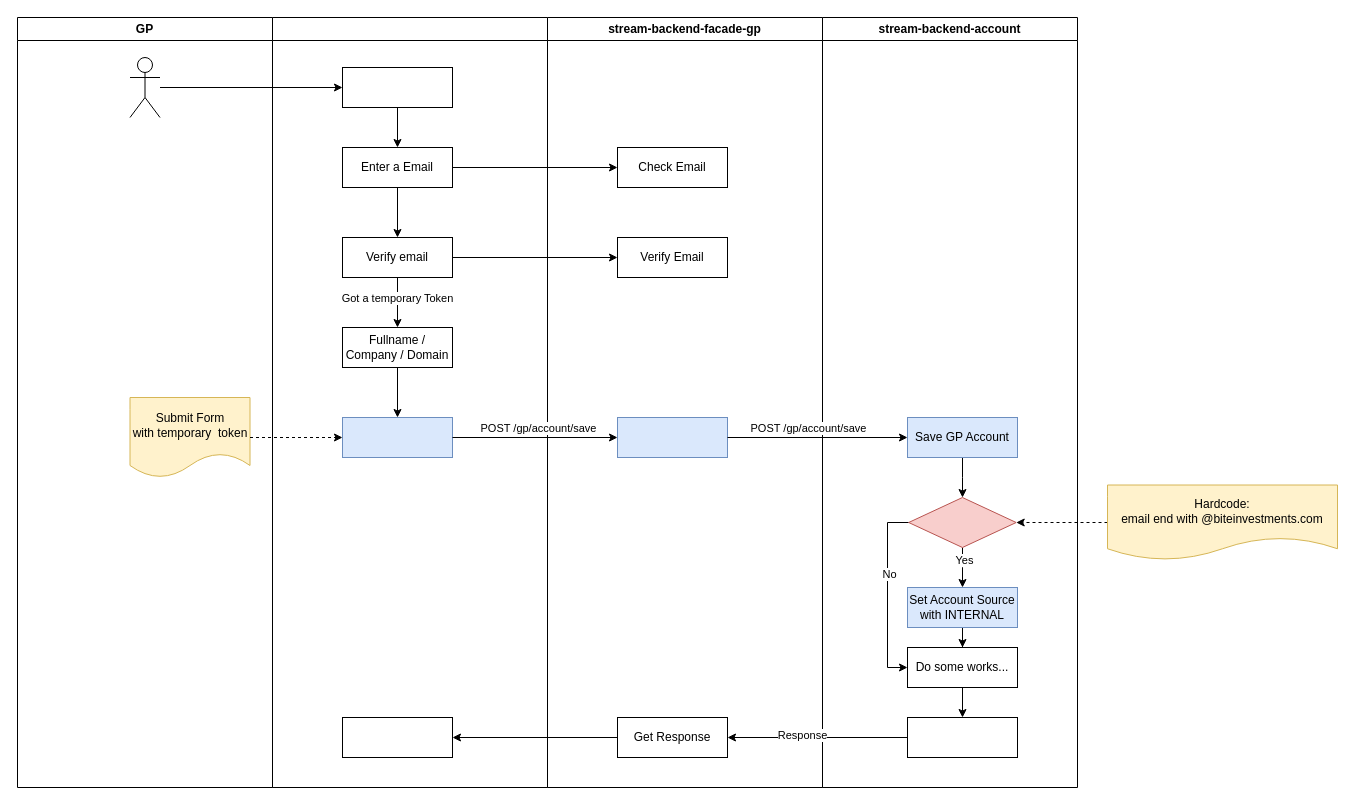
The diagram is 1355 pixels wide and 805 high, and some of its shapes have lost their labels. Here are the shapes that lost their labels. From the top down, the box of each, then its label:
(342, 66, 452, 108): Create a New Stream
(272, 16, 548, 788): BizOps Support
(342, 416, 452, 458): Complete Setup
(616, 416, 728, 458): Build Request
(908, 496, 1016, 548): Is Internal?
(342, 716, 452, 758): Show Result
(906, 716, 1018, 758): Build Access Token
